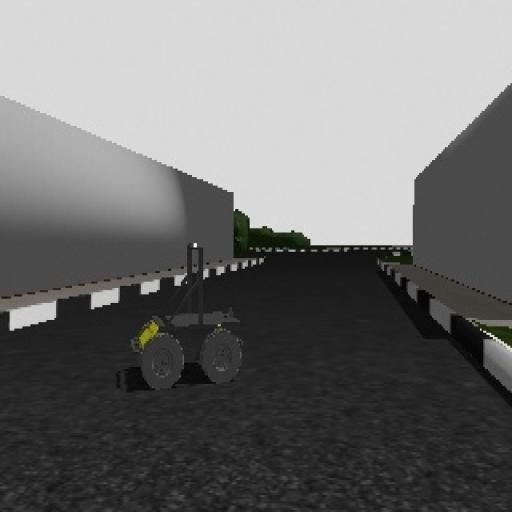huskya200: (123, 238, 253, 414)
